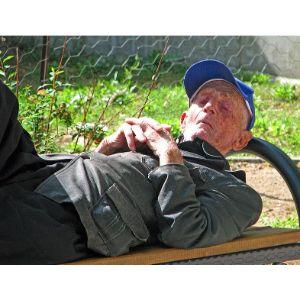sleep: (2, 76, 266, 264), (192, 92, 239, 138)
